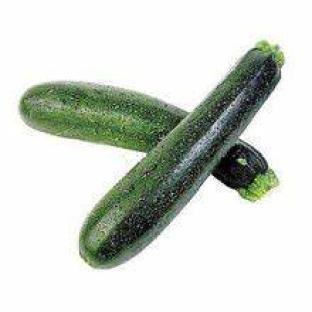Zucchini: (80, 46, 280, 268), (20, 83, 187, 151)
